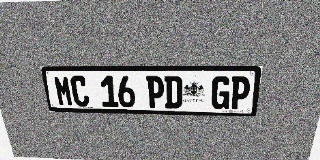1: (99, 76, 119, 107)
6: (116, 76, 136, 108)
C: (69, 76, 90, 107)
D: (164, 76, 182, 108)
G: (211, 76, 231, 109)
M: (53, 76, 74, 106)
P: (229, 76, 251, 110), (146, 76, 164, 108)
